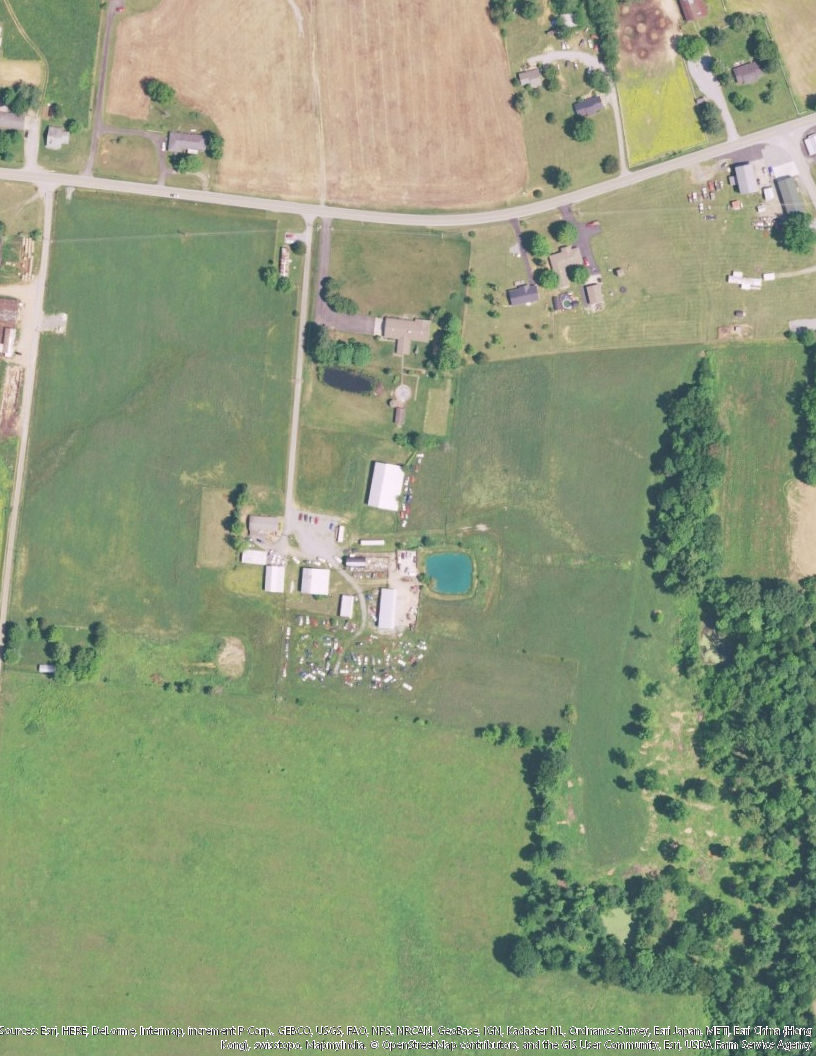cafo: (365, 456, 410, 514), (373, 584, 404, 635)
